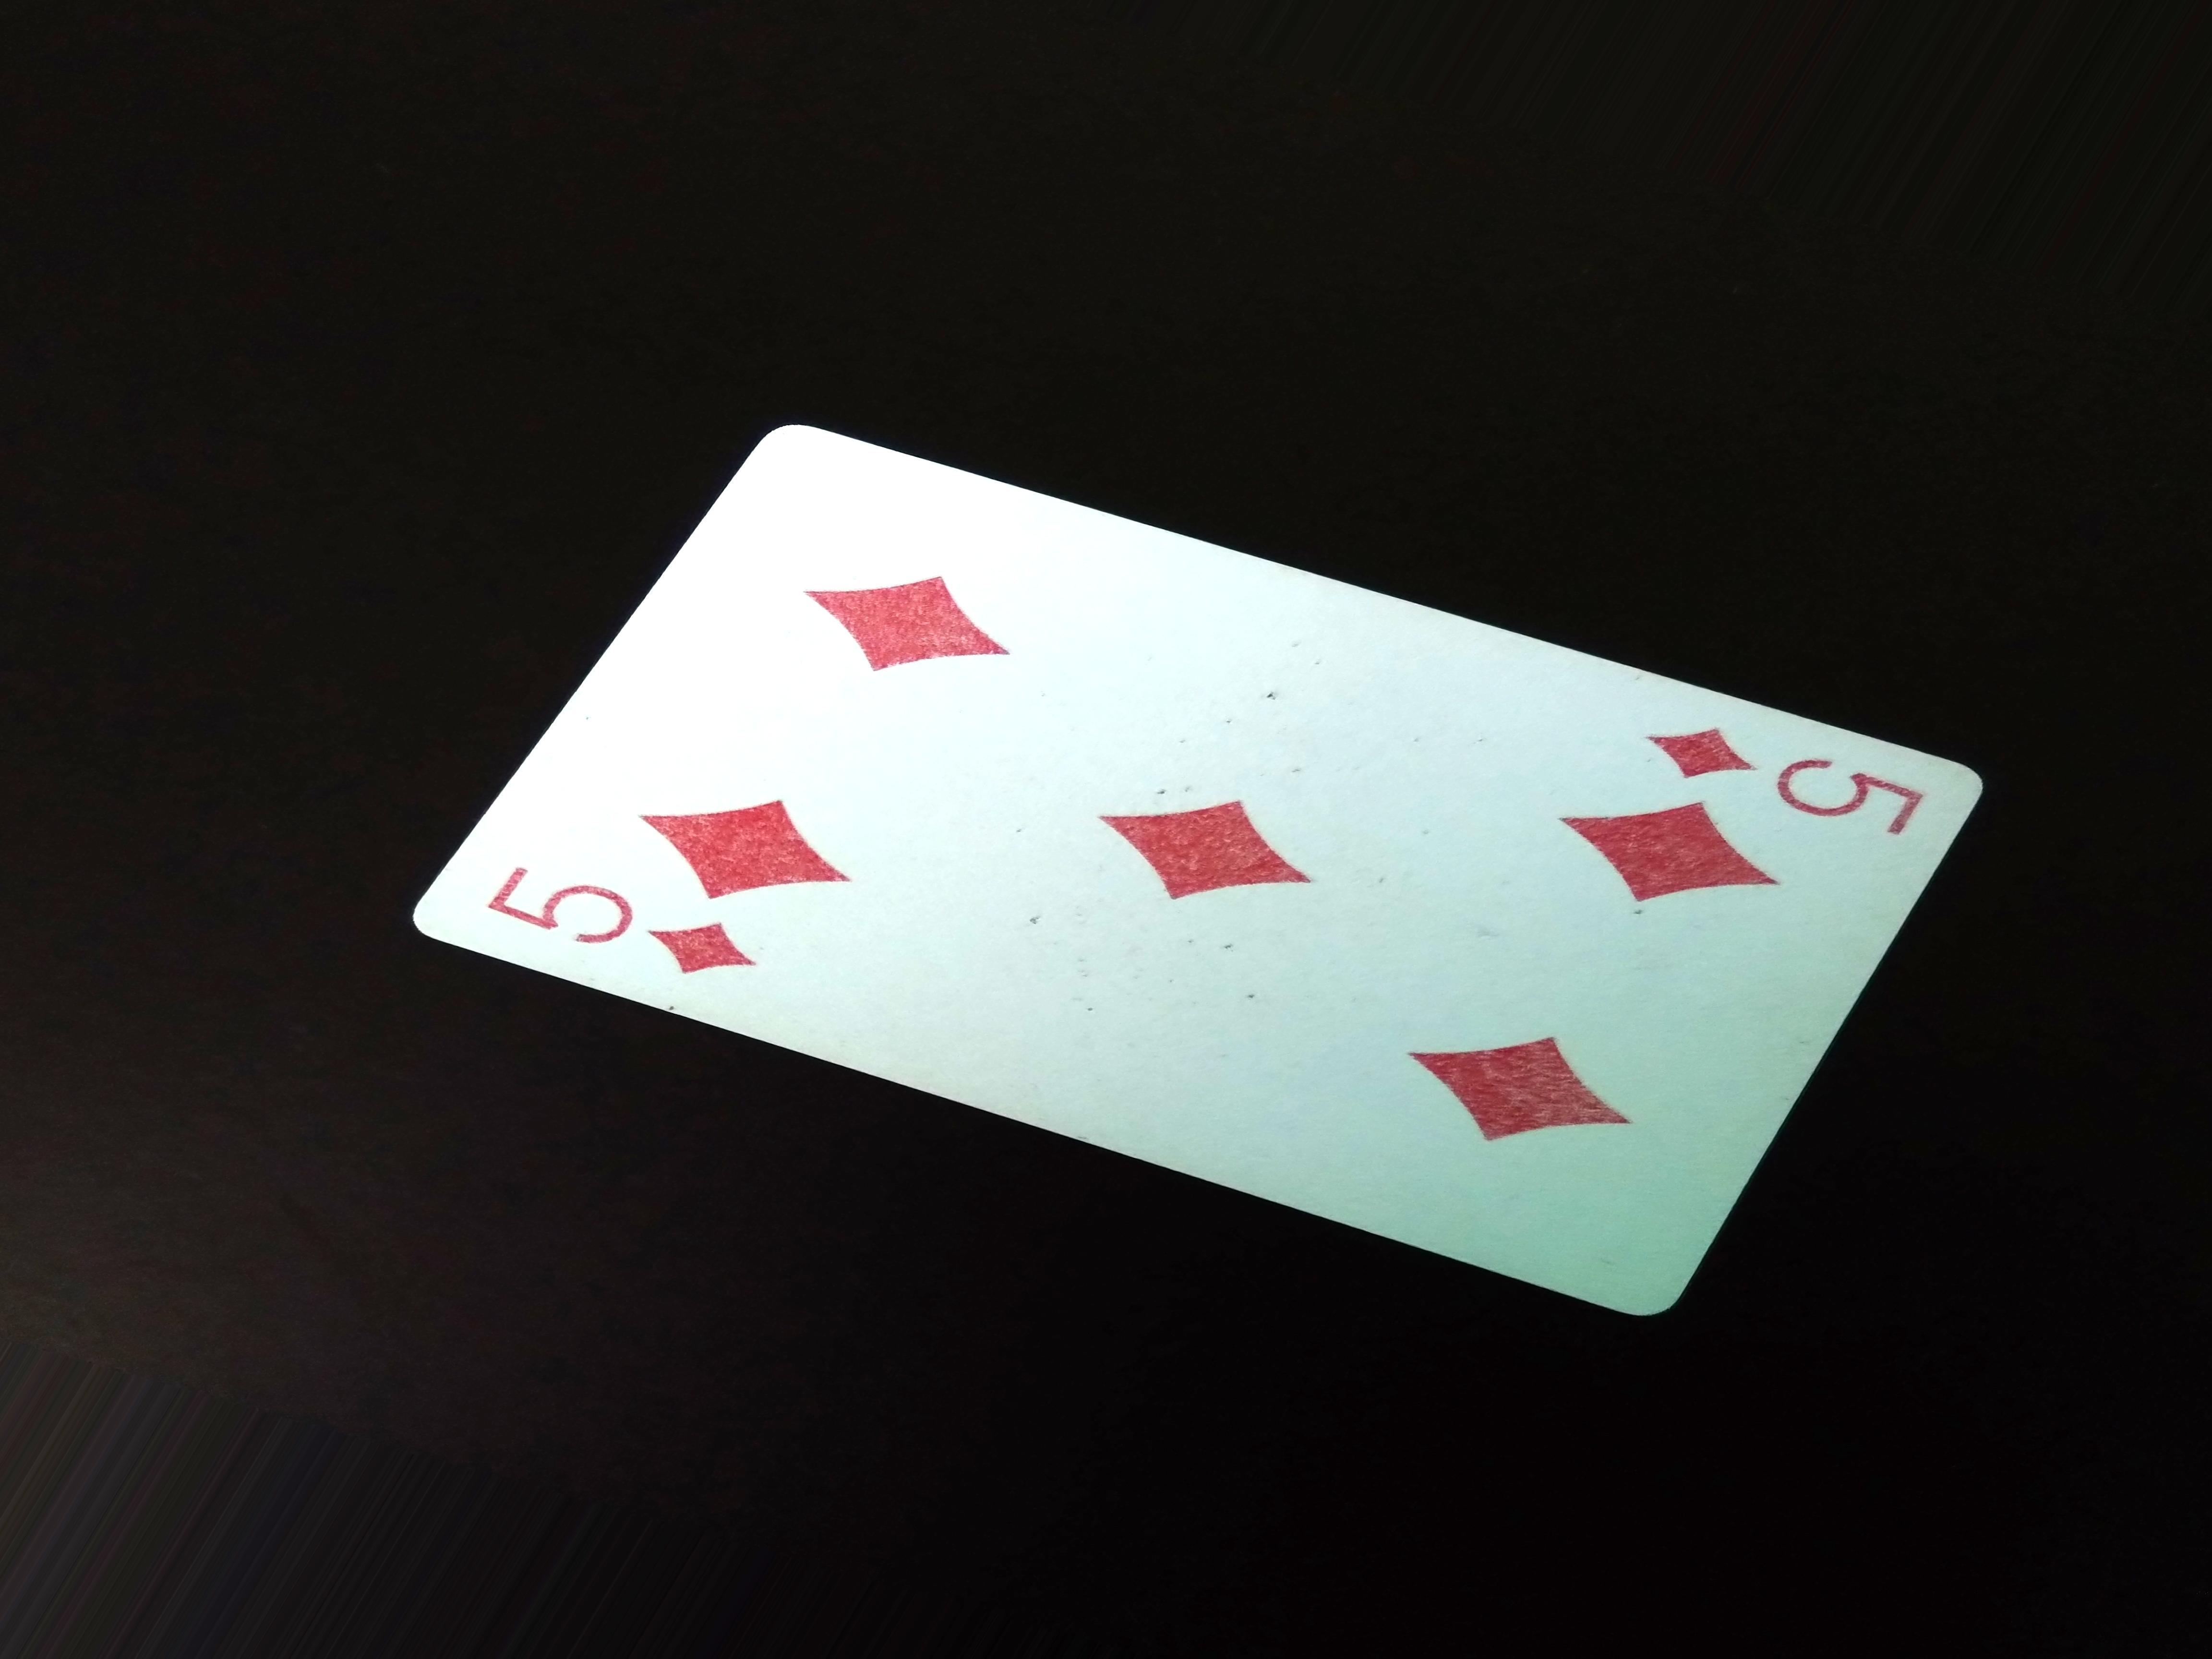5D: (1646, 718, 1932, 840)
